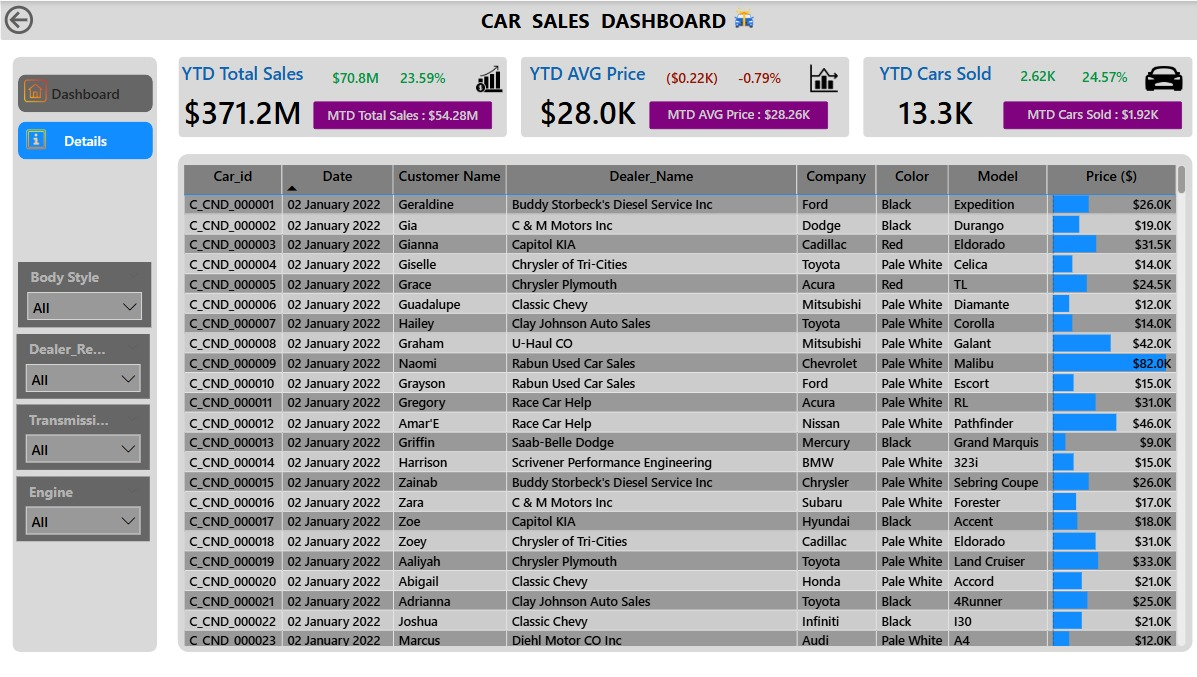

Layout of this report page (visuals, bound fields, positions):
{"tool":"powerbi","page":{"name":"Details","canvas":[1280,720],"ordinal":1},"visuals":[{"type":"card","title":"YTD Total Sales","fields":{"Values":["car_data.YTD Total Sales"]},"box":[173.1,64.2,167.3,82.7],"z":0},{"type":"card","title":"YTD Total Sales","fields":{"Values":["car_data.Sales Difference"]},"box":[340.7,66.7,72,32.5],"z":1000},{"type":"card","title":"YTD Total Sales","fields":{"Values":["car_data.YOY Sales Growth"]},"box":[412.7,66.7,72,32.5],"z":2000},{"type":"card","fields":{"Values":["car_data.MTD KPI"]},"box":[332.6,106,189.7,29],"z":3000},{"type":"card","title":"YTD AVG Price","fields":{"Values":["car_data.YTD Average Price"]},"box":[538.8,64.2,167.3,82.7],"z":4000},{"type":"card","title":"YTD Total Sales","fields":{"Values":["car_data.AVG Price Difference"]},"box":[698.9,66.7,70.2,32.5],"z":5000},{"type":"card","title":"YTD Total Sales","fields":{"Values":["car_data.YOY AVG Growth"]},"box":[769.2,66.7,70.2,32.5],"z":6000},{"type":"card","fields":{"Values":["car_data.MTD AVG KPI"]},"box":[688.6,106,189.7,29.2],"z":7000},{"type":"card","title":"YTD Cars Sold","fields":{"Values":["car_data.YTD Cars Sold"]},"box":[908.4,64.2,167.3,82.7],"z":8000},{"type":"card","title":"YTD Total Sales","fields":{"Values":["car_data.Cars Sold Difference"]},"box":[1064.2,65.9,72,32.5],"z":9000},{"type":"card","title":"YTD Total Sales","fields":{"Values":["car_data.YOY Cars sold Growth"]},"box":[1136.2,65.9,71.1,33.4],"z":10000},{"type":"card","fields":{"Values":["car_data.MTD Count KPI"]},"box":[1064.1,106,189.7,29.2],"z":11000},{"type":"slicer","fields":{"Values":["car_data.Body Style"]},"box":[19.3,277.5,141.4,69.4],"z":12000},{"type":"slicer","fields":{"Values":["car_data.Dealer_Region"]},"box":[17.6,353,141.4,68.5],"z":13000},{"type":"slicer","fields":{"Values":["car_data.Transmission"]},"box":[17.6,428.5,141.4,69.4],"z":14000},{"type":"slicer","fields":{"Values":["car_data.Engine"]},"box":[17.6,504,141.4,68.5],"z":15000},{"type":"textbox","box":[0,0,1280,40.9],"z":16000},{"type":"tableEx","fields":{"Values":["car_data.Car_id","car_data.Date","car_data.Customer Name","car_data.Dealer_Name","car_data.Company","car_data.Color","car_data.Model","car_data.Price ($)"]},"box":[188.9,168.3,1073,520.6],"z":17000},{"type":"actionButton","box":[0,0,100,40],"z":18000},{"type":"pageNavigator","box":[19.3,77.3,143.1,91.3],"z":20000},{"type":"image","box":[19.3,123.8,38.6,45.7],"z":21000},{"type":"image","box":[17.6,77.3,40.4,34.2],"z":22000},{"type":"image","box":[500,61.9,38.1,41.3],"z":23000},{"type":"image","box":[1207.9,55.6,54,52.4],"z":24000},{"type":"image","box":[839.7,61.9,68.3,39.7],"z":25000},{"type":"image","box":[744.6,0,88.7,34.2],"z":26000}]}

Visuals, with their boxes on the page's 1280x720 design canvas (x1, y1, x2, y2). These are canvas units, not pixel positions in the 1197x677 screenshot, which may show the page scaled, cropped or inside an application window:
"YTD Total Sales" card: select_region(173, 64, 340, 147)
"YTD Total Sales" card: select_region(341, 67, 413, 99)
"YTD Total Sales" card: select_region(413, 67, 485, 99)
card - car_data.MTD KPI: select_region(333, 106, 522, 135)
"YTD AVG Price" card: select_region(539, 64, 706, 147)
"YTD Total Sales" card: select_region(699, 67, 769, 99)
"YTD Total Sales" card: select_region(769, 67, 839, 99)
card - car_data.MTD AVG KPI: select_region(689, 106, 878, 135)
"YTD Cars Sold" card: select_region(908, 64, 1076, 147)
"YTD Total Sales" card: select_region(1064, 66, 1136, 98)
"YTD Total Sales" card: select_region(1136, 66, 1207, 99)
card - car_data.MTD Count KPI: select_region(1064, 106, 1254, 135)
slicer - car_data.Body Style: select_region(19, 278, 161, 347)
slicer - car_data.Dealer_Region: select_region(18, 353, 159, 422)
slicer - car_data.Transmission: select_region(18, 428, 159, 498)
slicer - car_data.Engine: select_region(18, 504, 159, 572)
textbox: select_region(0, 0, 1280, 41)
tableEx - car_data.Car_id x car_data.Date: select_region(189, 168, 1262, 689)
actionButton: select_region(0, 0, 100, 40)
pageNavigator: select_region(19, 77, 162, 169)
image: select_region(19, 124, 58, 170)
image: select_region(18, 77, 58, 112)
image: select_region(500, 62, 538, 103)
image: select_region(1208, 56, 1262, 108)
image: select_region(840, 62, 908, 102)
image: select_region(745, 0, 833, 34)
